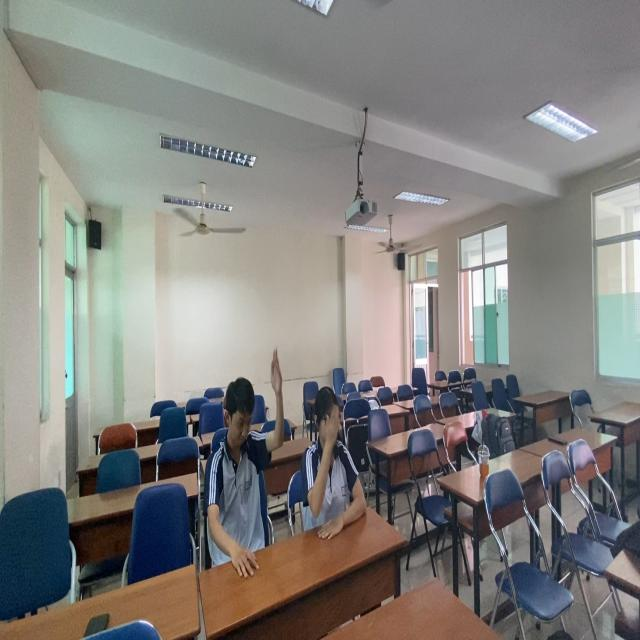raise_hand: (195, 343, 289, 584), (301, 378, 382, 548)
